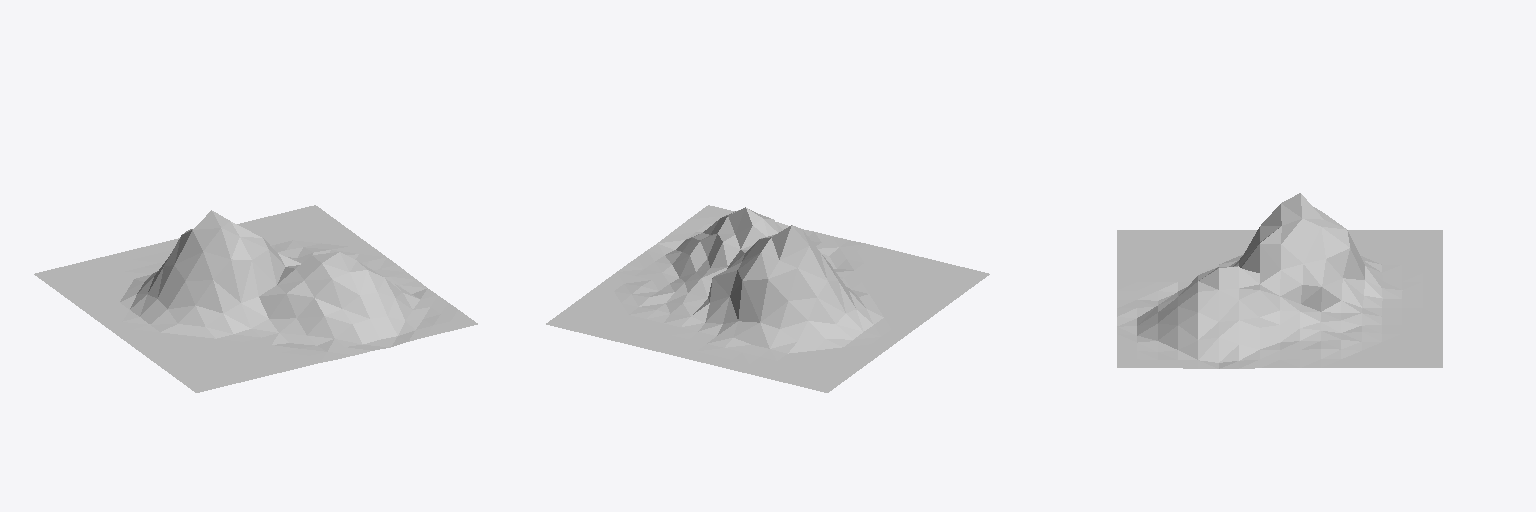
The model's file is mountain.obj.
The picture shows the model from 3 angles: view 1: azimuth 30°, elevation 25°; view 2: azimuth 150°, elevation 25°; view 3: azimuth 270°, elevation 25°; orthographic projection.
Visible parts, largest first — view 1: Plane; view 2: Plane; view 3: Plane.
Boxes of the visible parts, x1=… form: Plane: x1=34, y1=205, x2=477, y2=392; Plane: x1=546, y1=205, x2=989, y2=392; Plane: x1=1117, y1=193, x2=1442, y2=368.
Size of the model in its own units: 3.78 by 1.19 by 3.78.